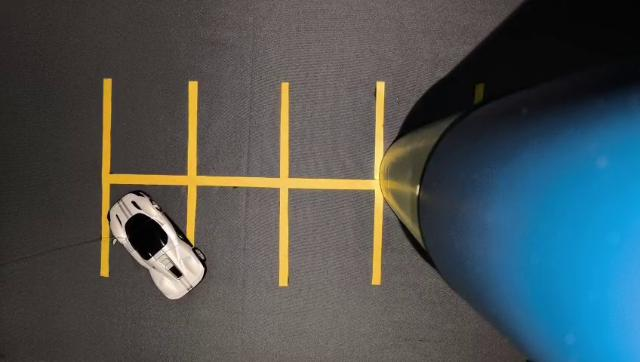toy_car: (84, 170, 236, 324)
